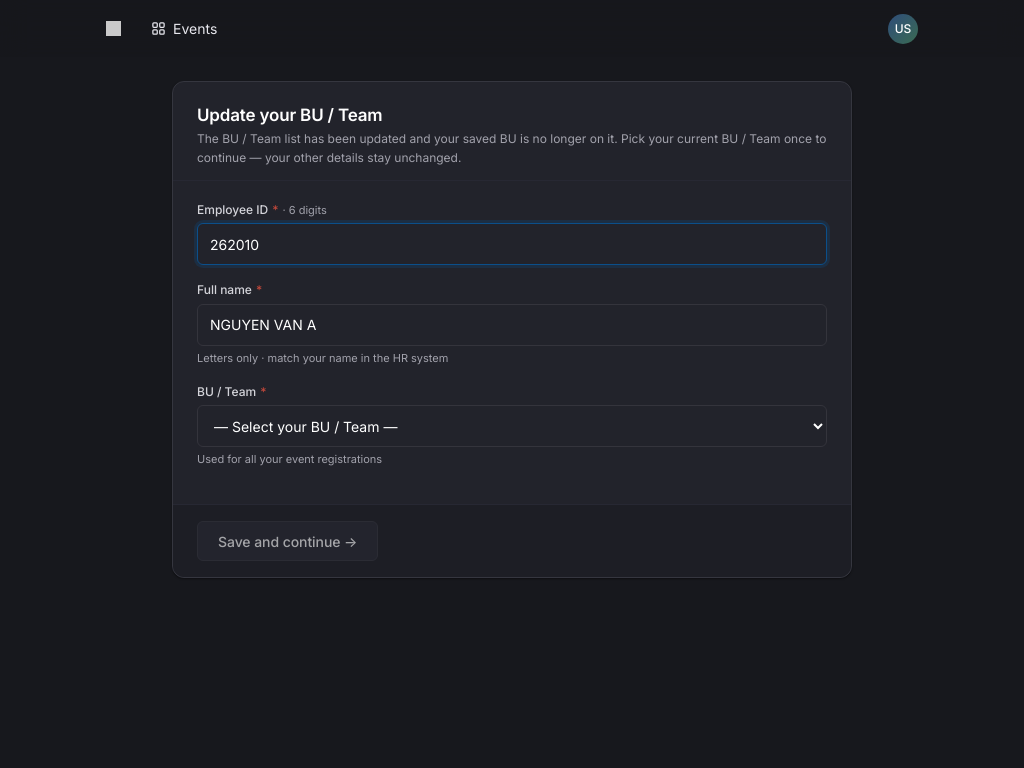
Test case: App — stale-BU re-gate › proceeds to the events list once a current BU is saved
This screenshot has width=1024, height=768.
Expected: the heading "Update your BU / Team" is shown, left=197, top=105, right=382, bottom=125
Step 1. Select "BSG" in the dropdown labelled "BU / Team *" → (512, 426), box left=197, top=405, right=827, bottom=447
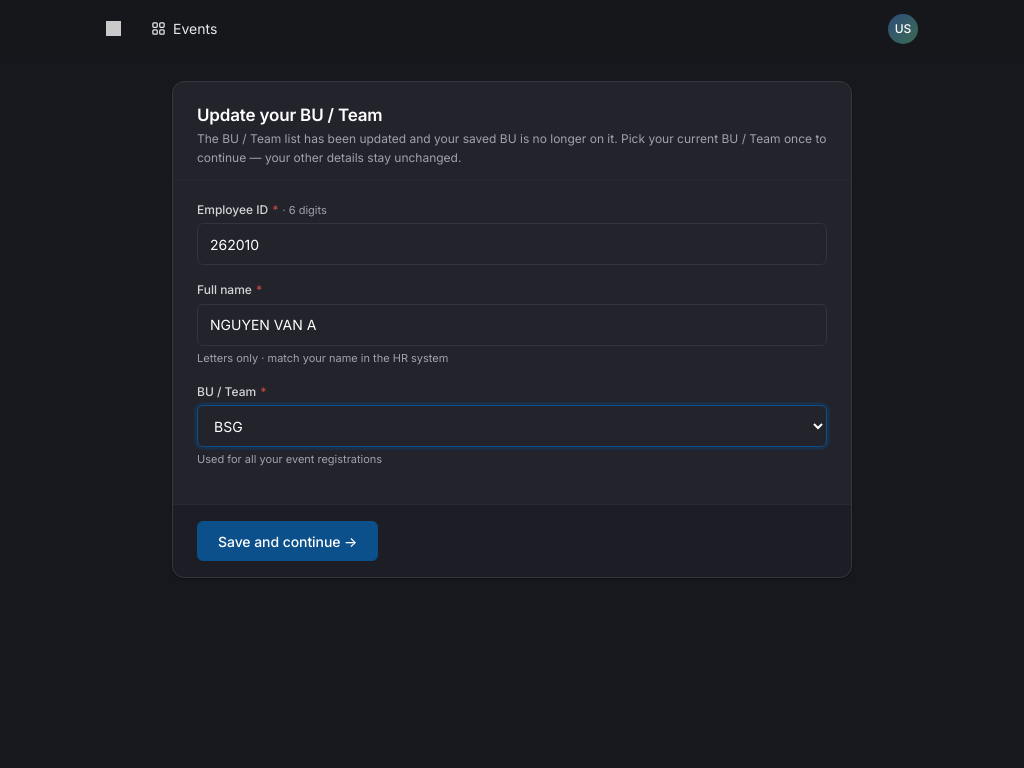
Step 2. Click the button "Save and continue →" → (288, 541), box left=197, top=521, right=378, bottom=561
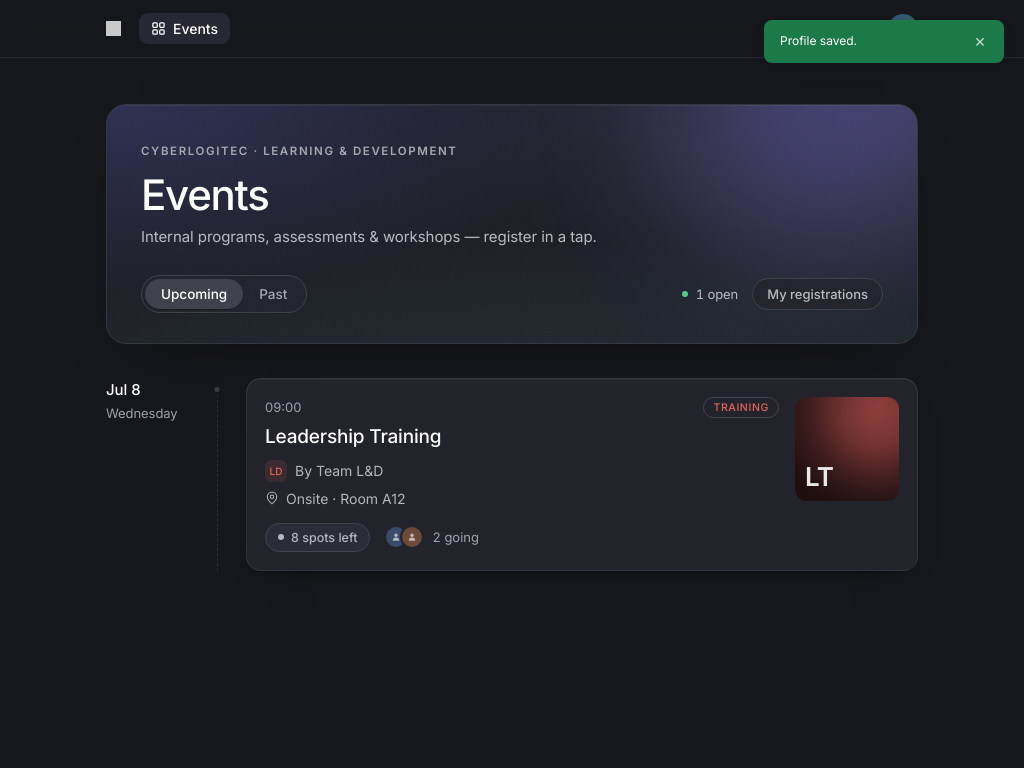
Now the heading "Leadership Training" is shown, box left=265, top=425, right=441, bottom=448
